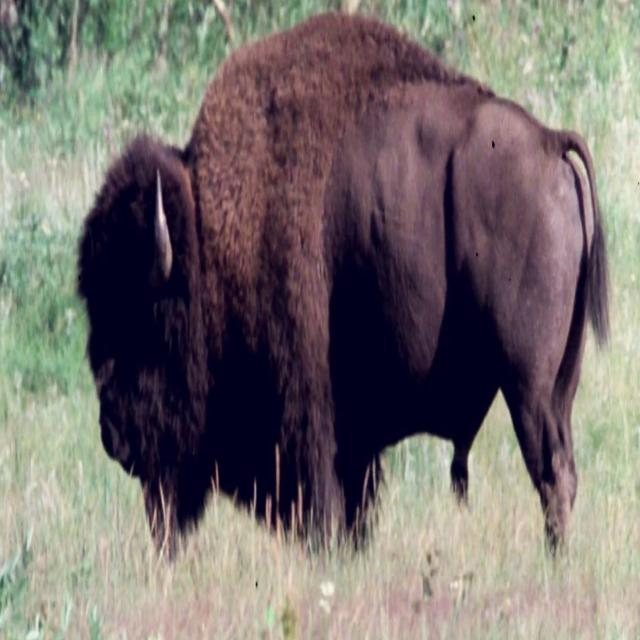Bison: (72, 9, 625, 591)
